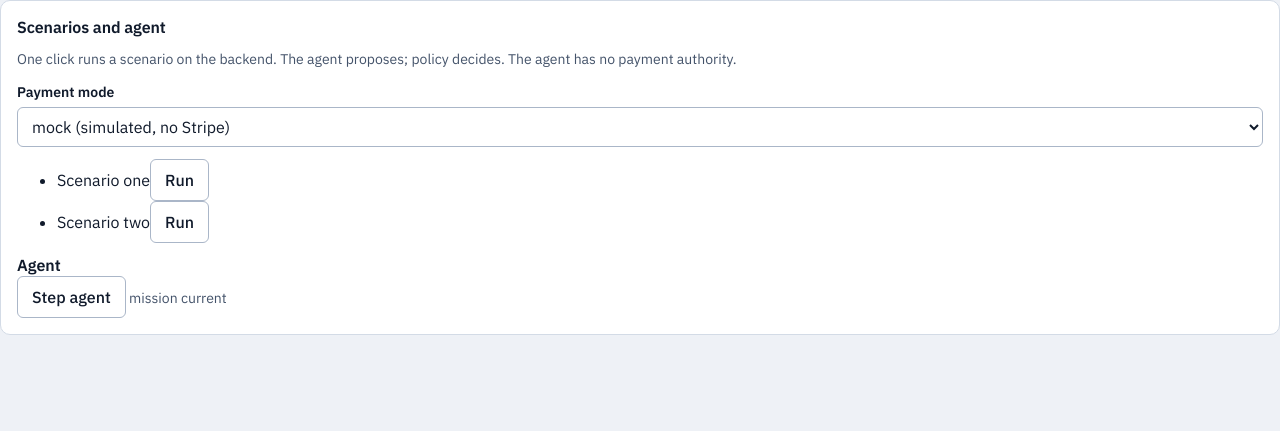
ScenariosPanel › surfaces an unavailable agent instead of faking a step
The image size is (1280, 431).
Click the button "Step agent": [71, 297] box [17,276,126,318]
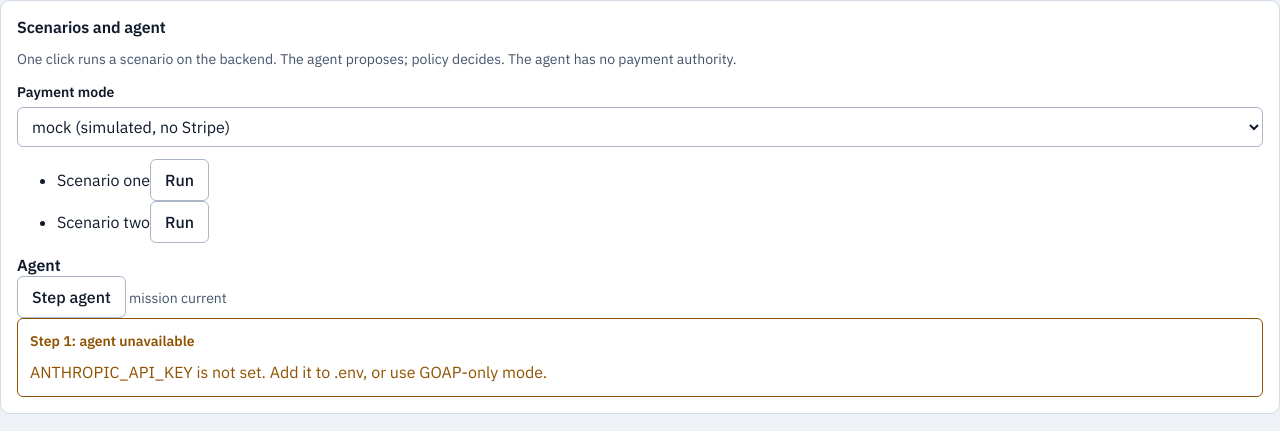
Expected: the text "ANTHROPIC_API_KEY is not set" is shown, [30,362,547,382]
